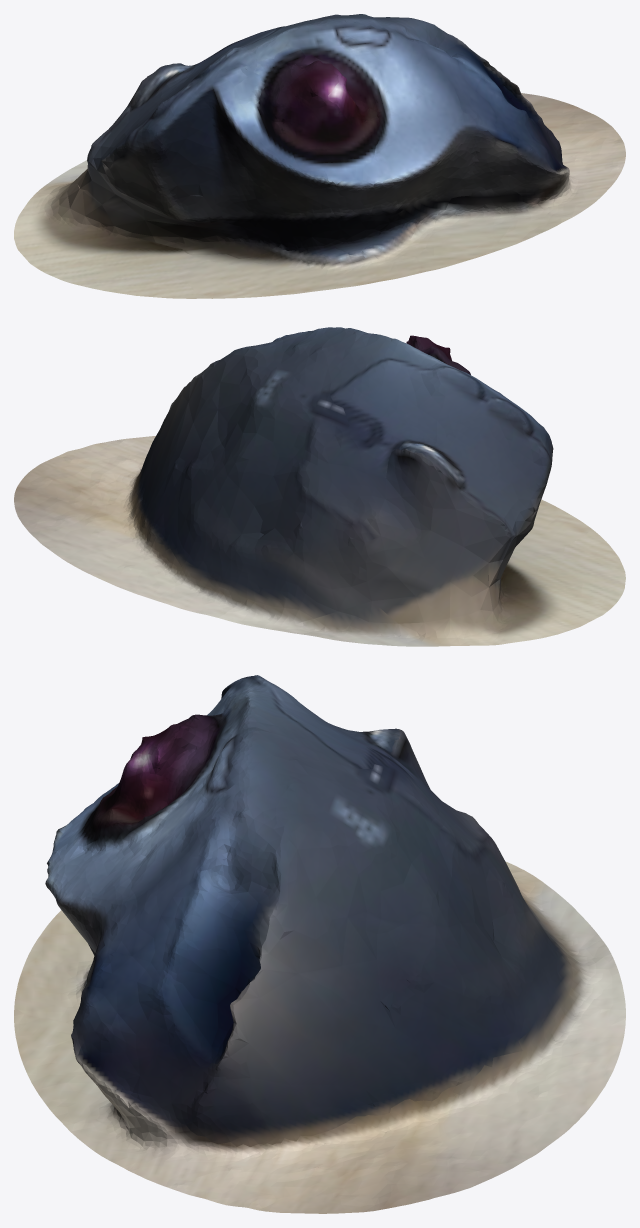
Rendered from mouse.glb.
3 renders of one model, top to bottom at view 1: azimuth 30°, elevation 25°; view 2: azimuth 150°, elevation 25°; view 3: azimuth 270°, elevation 25°, orthographic. The views are drawn at different scales.
Visible parts, largest first — view 1: mesh; view 2: mesh; view 3: mesh.
Part boxes in pixels (bbox=[...]): mesh: bbox=[14, 14, 625, 298]; mesh: bbox=[14, 327, 625, 646]; mesh: bbox=[14, 675, 625, 1213].
Size of the model in its own units: 0.1772 by 0.0588 by 0.115.
Materials: 1 (1 with a texture image).
